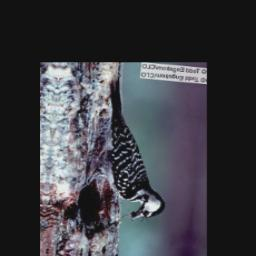Woodpecker: (87, 79, 179, 225)
